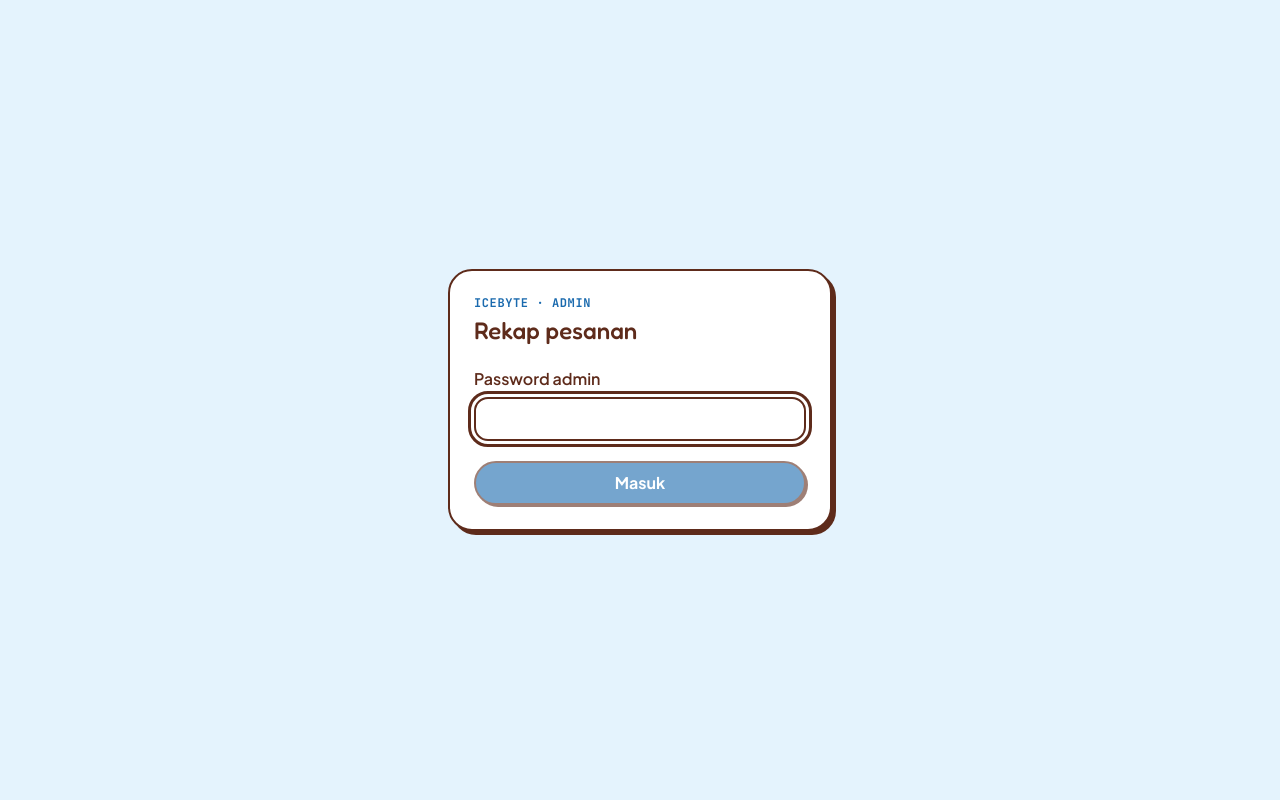
AdminApp › login berhasil tapi database belum tersambung → pesan error tampil, tidak macet di "Memeriksa…"
Type "password-panjang-12" into the password field labelled "Password admin" at (640, 419), box [474, 397, 806, 441]
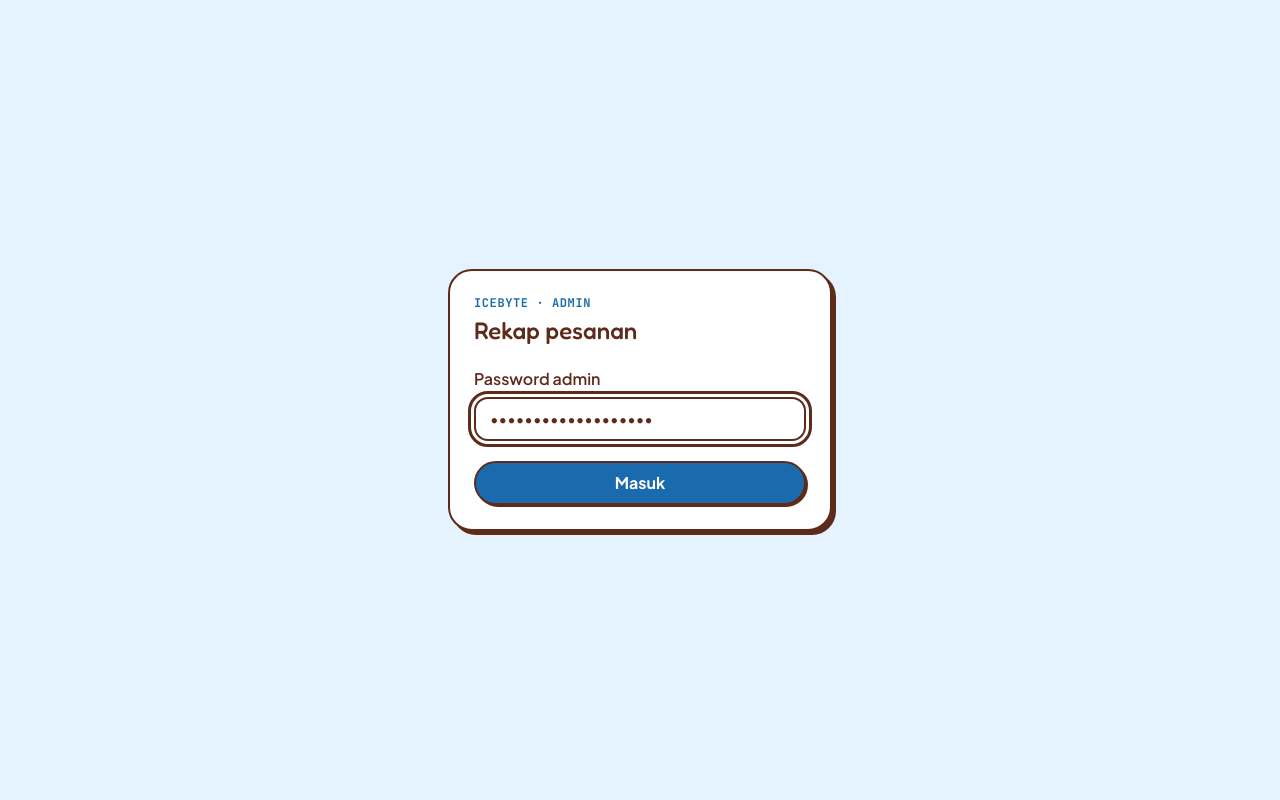
Click the button "Masuk" at (640, 483), box [474, 461, 806, 505]
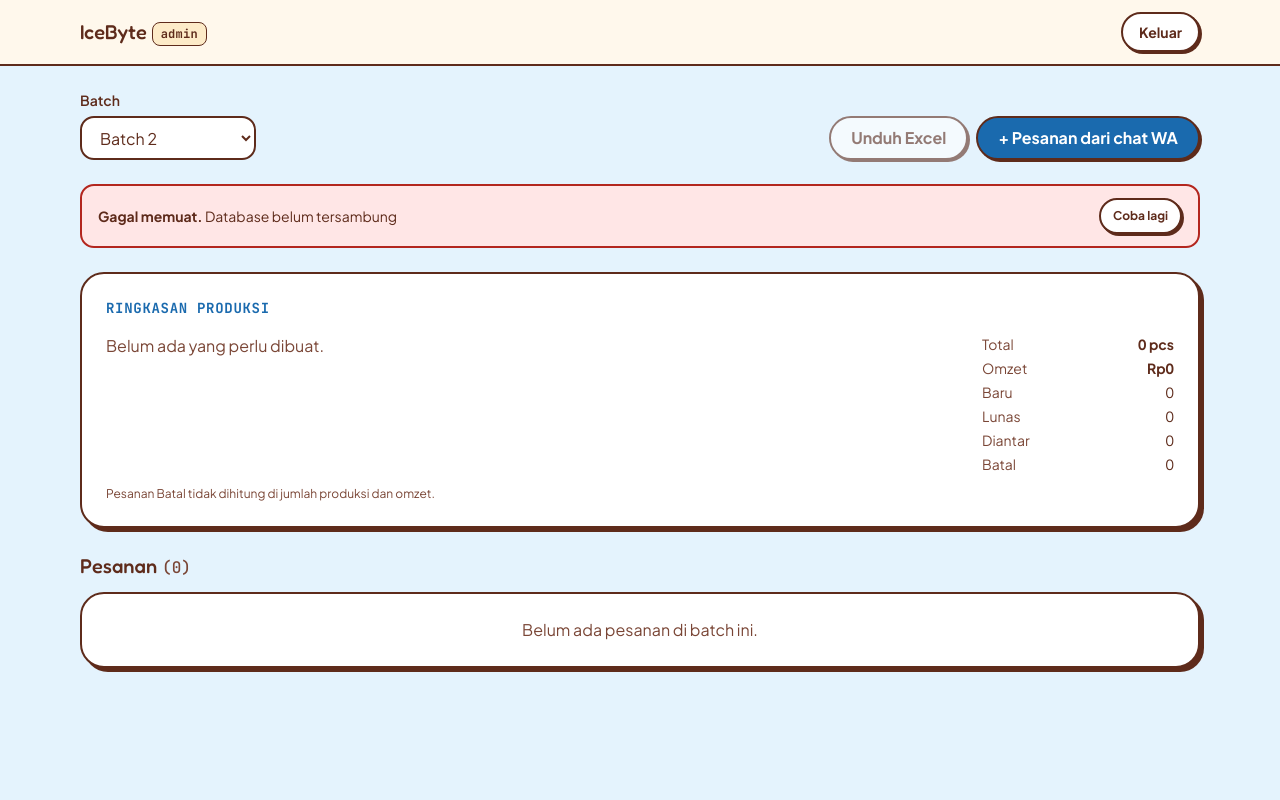
Check: the text "Gagal memuat. Database belum tersambung" is shown, box [98, 206, 397, 226]
